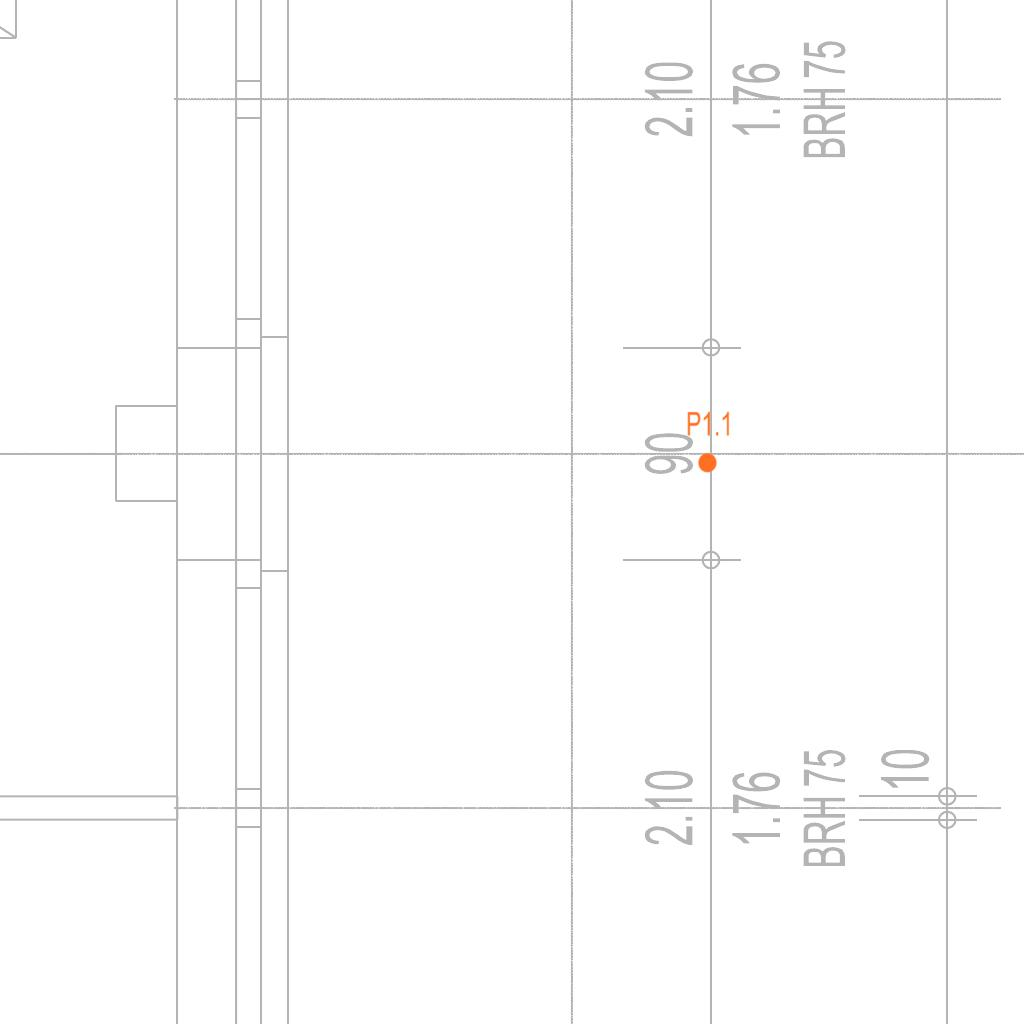Downlight_LED_Einbauleuchten_Flur_2: (686, 410, 732, 474)
